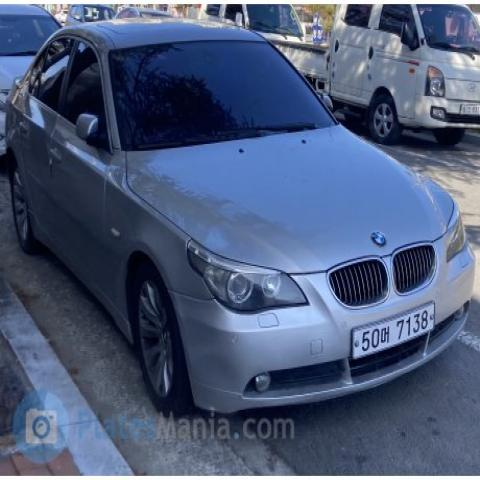LP: (345, 297, 443, 366)
